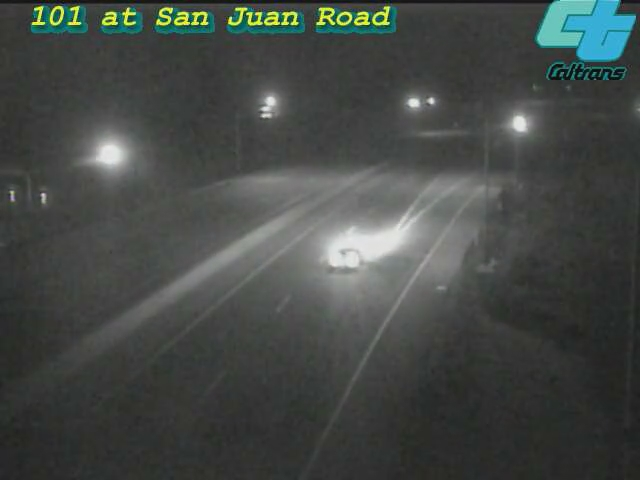vehicle: (303, 220, 383, 300), (495, 99, 545, 149)
